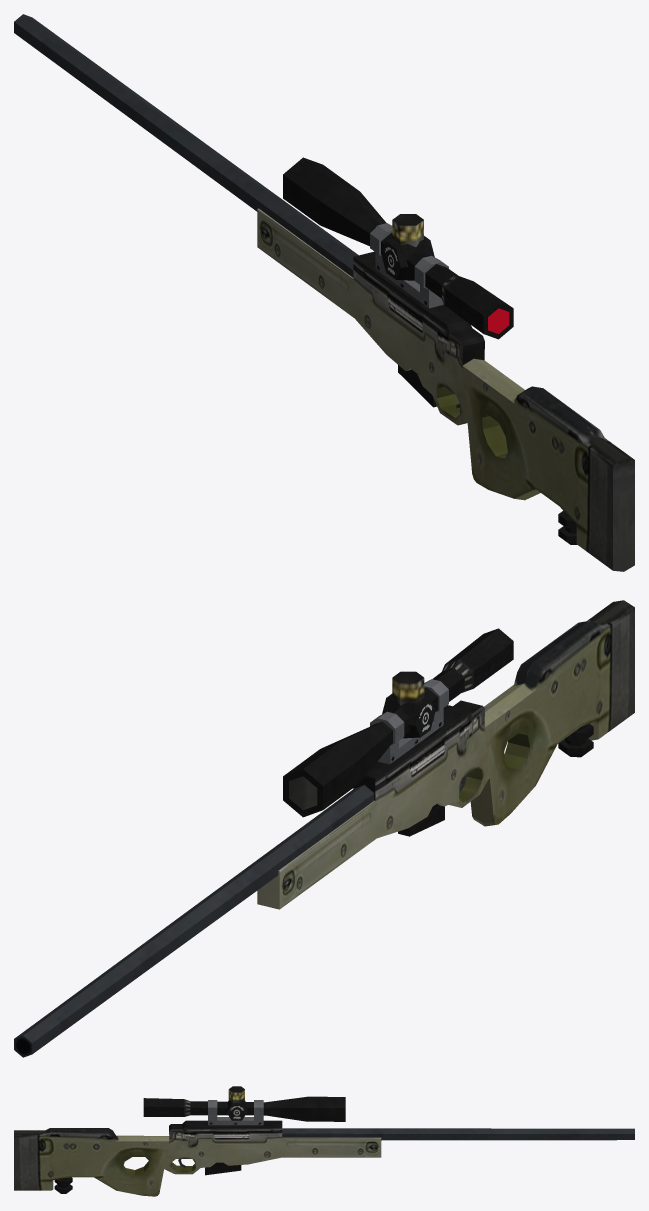
File: Sniper.fbx
The picture shows the model from 3 angles, top to bottom: view 1: azimuth 30°, elevation 25°; view 2: azimuth 150°, elevation 25°; view 3: azimuth 270°, elevation 25°; orthographic projection. The views are drawn at different scales.
Parts seen in each view (by area): view 1: Cylinder.004; view 2: Cylinder.004; view 3: Cylinder.004, Cube.002.
Part boxes in pixels (x1,y1,x2,y2): Cylinder.004: (14, 14, 634, 571); Cylinder.004: (14, 600, 634, 1057); Cylinder.004: (14, 1086, 634, 1196); Cube.002: (205, 1162, 241, 1175).
Size of the model in its own units: 104 by 515 by 2715.
